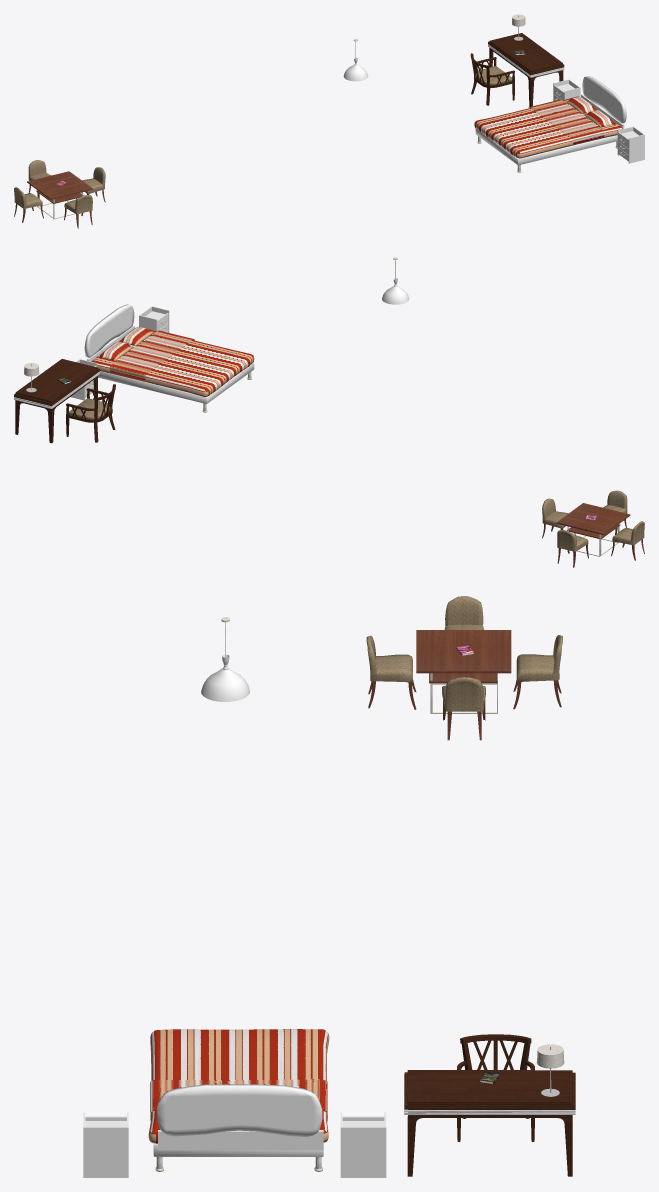
Rendered from Bedroom.FBX.
3 renders of one model, top to bottom at view 1: azimuth 30°, elevation 25°; view 2: azimuth 150°, elevation 25°; view 3: azimuth 270°, elevation 25°, orthographic. The views are drawn at different scales.
Visible parts, largest first — view 1: Bedroom bed, Bedroom desk, Discussion tables, Bedroom furniture book, Bedroom bedside cabinet, Discussion chairs04, Discussion chairs03, Bedroom bedside cabinet02, Discussion chairs02, Chandelier, Discussion chairs; view 2: Bedroom bed, Bedroom desk, Discussion tables, Bedroom furniture book, Bedroom bedside cabinet, Discussion chairs, Discussion chairs03, Discussion chairs02, Chandelier, Discussion chairs04; view 3: Bedroom bed, Bedroom desk, Discussion tables, Bedroom bedside cabinet02, Bedroom bedside cabinet, Bedroom furniture book, Discussion chairs02, Discussion chairs, Discussion chairs04, Chandelier, Discussion chairs03.
Part boxes in pixels (x1,y1,x2,y2): Bedroom bed: [474, 76, 626, 172]; Bedroom desk: [488, 33, 564, 106]; Discussion tables: [27, 171, 92, 219]; Bedroom furniture book: [470, 53, 514, 105]; Bedroom bedside cabinet: [617, 126, 644, 163]; Discussion chairs04: [64, 195, 92, 228]; Discussion chairs03: [14, 187, 43, 222]; Bedroom bedside cabinet02: [553, 79, 580, 101]; Discussion chairs02: [76, 167, 105, 202]; Chandelier: [343, 39, 368, 81]; Discussion chairs: [28, 160, 51, 198]; Bedroom bed: [84, 304, 254, 412]; Bedroom desk: [14, 359, 99, 443]; Discussion tables: [556, 503, 630, 556]; Bedroom furniture book: [66, 384, 115, 442]; Bedroom bedside cabinet: [139, 306, 169, 332]; Discussion chairs: [557, 530, 588, 567]; Discussion chairs03: [611, 521, 644, 560]; Discussion chairs02: [542, 498, 575, 538]; Chandelier: [382, 257, 409, 304]; Discussion chairs04: [603, 490, 627, 534]; Bedroom bed: [148, 1029, 329, 1171]; Bedroom desk: [404, 1070, 575, 1176]; Discussion tables: [416, 630, 511, 713]; Bedroom bedside cabinet02: [340, 1112, 386, 1177]; Bedroom bedside cabinet: [83, 1112, 128, 1177]; Bedroom furniture book: [457, 1034, 534, 1141]; Discussion chairs02: [442, 677, 485, 740]; Discussion chairs: [513, 635, 562, 709]; Discussion chairs04: [366, 635, 416, 709]; Chandelier: [201, 617, 249, 701]; Discussion chairs03: [444, 596, 483, 629].
Size of the model in its own units: 1148 by 321 by 460.
